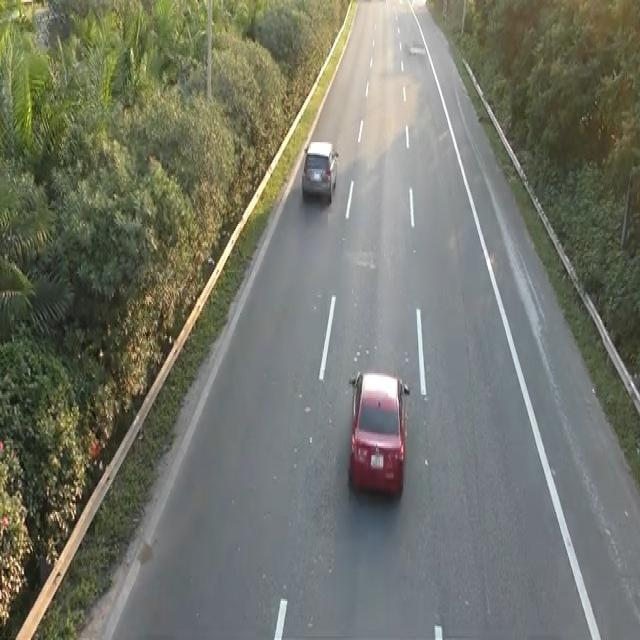bus: (346, 366, 410, 500), (300, 137, 339, 204)
